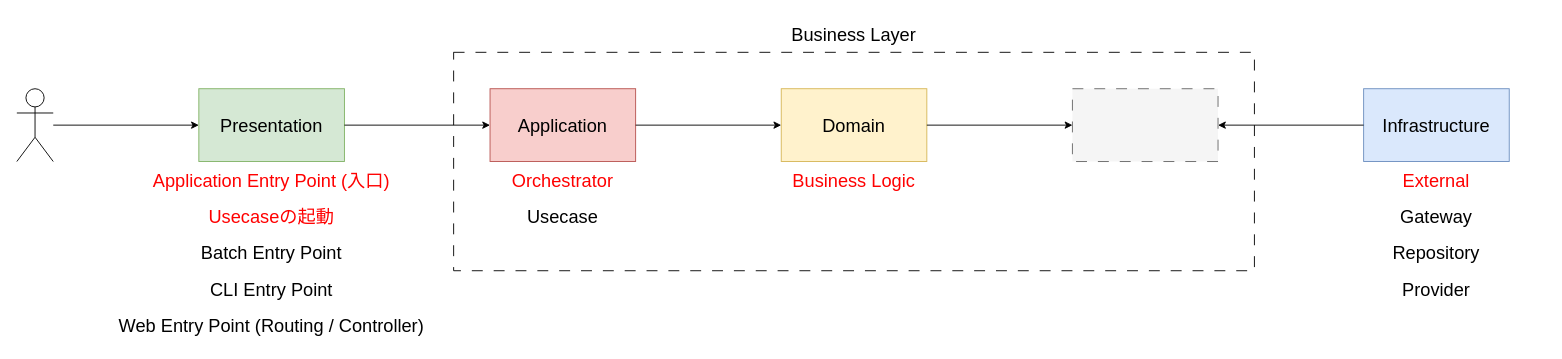
Image size: 1562x359. Some labels were removed from this diagram. The shapes that lost their labels are listed below. From the top down, each one's box as (x1, y1, x2, y2) in pixels, then its label:
(16, 88, 53, 162): User
(1072, 88, 1218, 162): Interface
